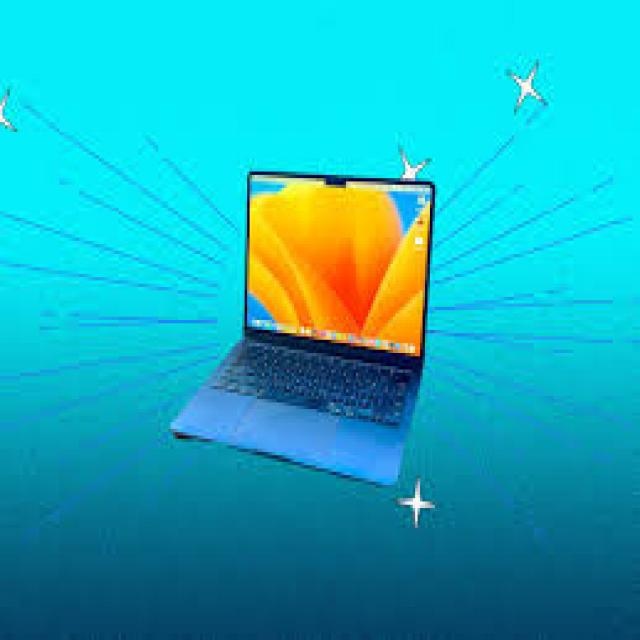others: (148, 152, 455, 475)
